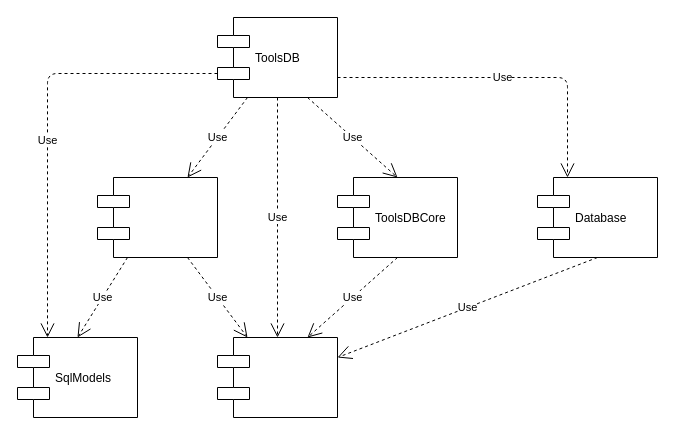
This 675x435 diagram has some shape labels left out. Here are the shapes that lost their labels. From the top down, the box of each, then its label:
(96, 176, 218, 258): GenHTML
(216, 336, 338, 418): Exceptions
